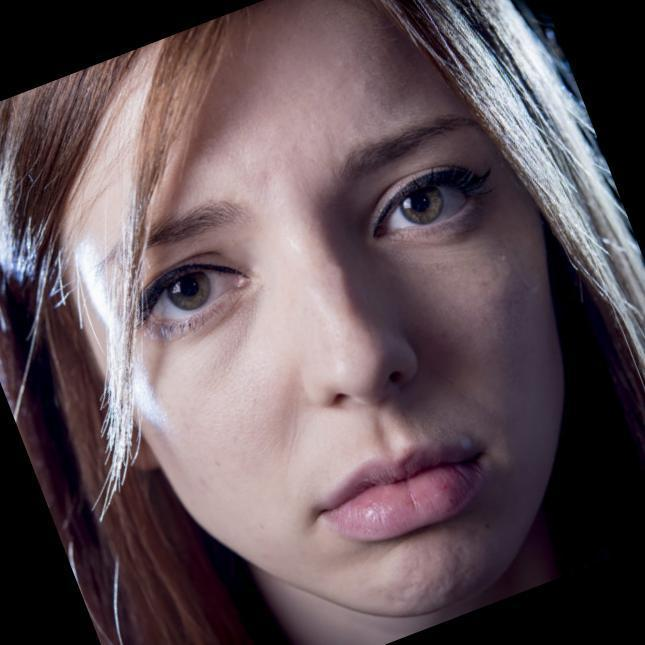Sober: (83, 109, 544, 548)
